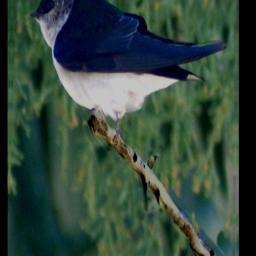Swallow: (24, 0, 228, 153)
